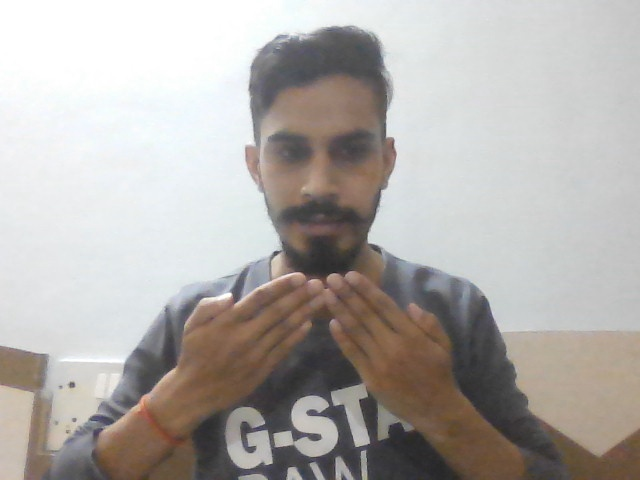ThankYou: (185, 271, 445, 415)
